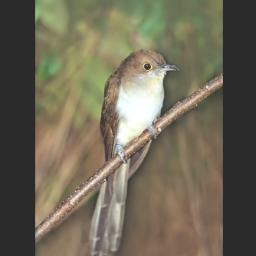Cuckoo: (88, 48, 178, 256)
